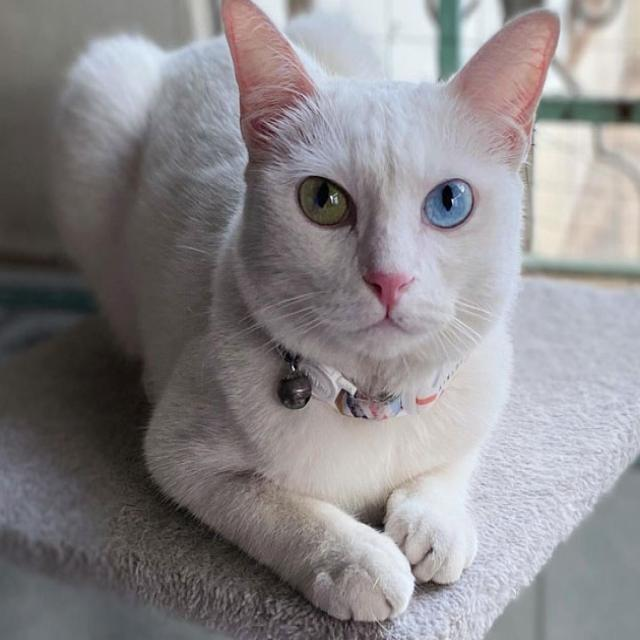Khao Manee: (39, 0, 564, 626)
